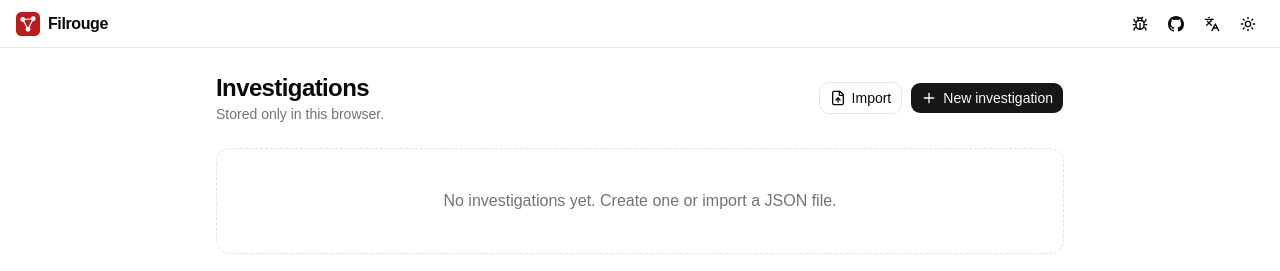
Test: LanguageMenu › shows the language chosen before
Step 1. Click the button named "Change language" → (1212, 24), box left=1196, top=8, right=1228, bottom=40
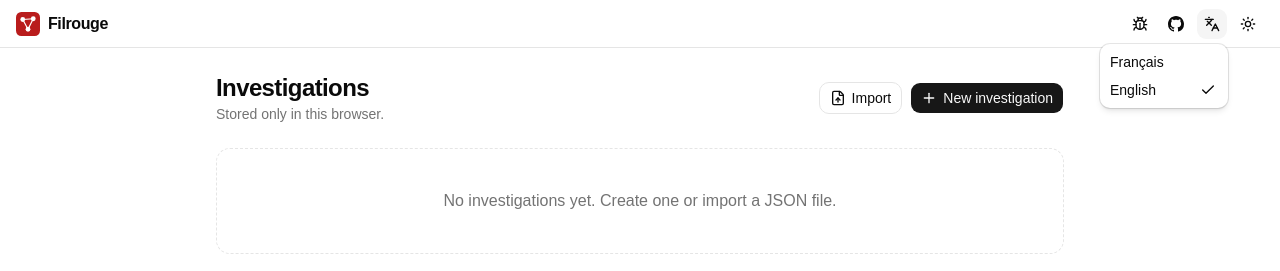
expect the menu item "English" is checked: met, box left=1110, top=82, right=1216, bottom=98
